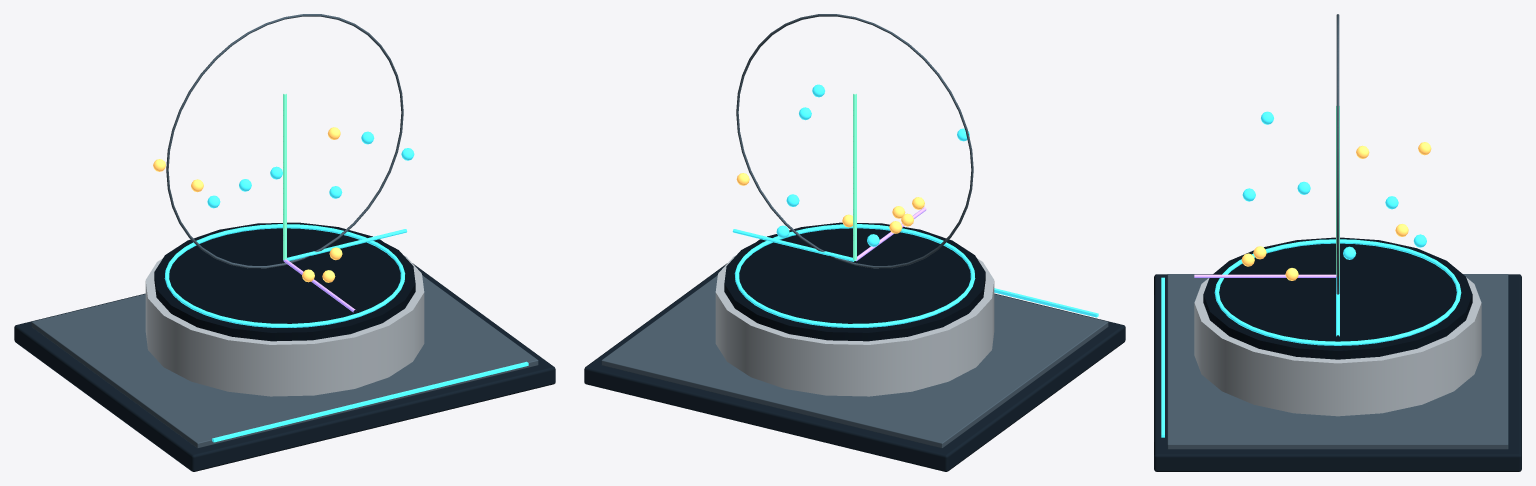
The model's file is embedding-projector.glb.
3 views of the same model, side by side, from view 1: azimuth 30°, elevation 25°; view 2: azimuth 150°, elevation 25°; view 3: azimuth 270°, elevation 25° (orthographic). The views are drawn at different scales.
Visible parts, largest first — view 1: inlay, top, body, base, projector_ring, coordinate_ring, status_strip, axis_green; view 2: inlay, top, body, base, projector_ring, coordinate_ring, axis_green; view 3: inlay, top, body, base, projector_ring, coordinate_ring, status_strip, axis_violet.
Part boxes in pixels (box(x1,y1,x2,y2)): inlay: box(31, 275, 538, 448); top: box(154, 222, 415, 341); body: box(145, 255, 424, 396); base: box(14, 239, 555, 471); projector_ring: box(164, 224, 405, 327); coordinate_ring: box(166, 14, 403, 268); status_strip: box(212, 361, 528, 442); axis_green: box(283, 94, 286, 260); inlay: box(601, 275, 1108, 448); top: box(724, 222, 985, 341); body: box(715, 255, 994, 396); base: box(584, 239, 1125, 471); projector_ring: box(734, 224, 975, 327); coordinate_ring: box(736, 14, 973, 268); axis_green: box(853, 94, 856, 260); inlay: box(1167, 274, 1508, 449); top: box(1203, 237, 1472, 359); body: box(1194, 277, 1481, 416); base: box(1154, 274, 1521, 471); projector_ring: box(1214, 239, 1461, 345); coordinate_ring: box(1336, 14, 1339, 294); status_strip: box(1161, 277, 1164, 437); axis_violet: box(1194, 274, 1336, 277).
Size of the model in its own units: 4.8 by 4.37 by 4.1.
